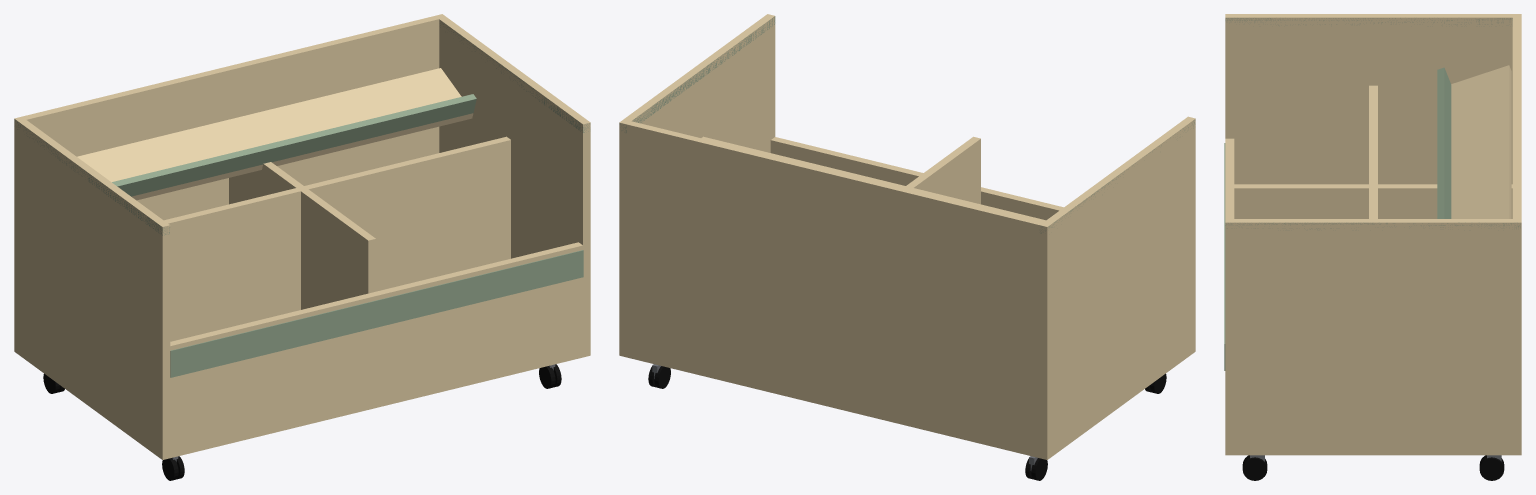
The model's file is 095_picture_book_browser_bin.glb.
3 renders of one model, left to right at view 1: azimuth 30°, elevation 25°; view 2: azimuth 150°, elevation 25°; view 3: azimuth 270°, elevation 25°, orthographic.
Visible parts, largest first — view 1: 016_carcass_side_l, 019_front_wall, 021_centre_divider_long, 020_back_wall, 017_carcass_side_r, 025_tilted_face_out_shelf, 027_bin_front_graphic_band, 022_cross_divider, 026_tilted_shelf_lip, 018_carcass_bottom, 023_side_top_round_over; view 2: 020_back_wall, 016_carcass_side_l, 017_carcass_side_r, 019_front_wall, 018_carcass_bottom, 022_cross_divider, 024_side_top_round_over, 021_centre_divider_long; view 3: 017_carcass_side_r, 016_carcass_side_l, 025_tilted_face_out_shelf, 022_cross_divider, 026_tilted_shelf_lip, 020_back_wall, 021_centre_divider_long, 019_front_wall, 009_caster_wheel_r, 013_caster_wheel_r, 027_bin_front_graphic_band.
Boxes of the visible parts, left/top/right/bottom form: 016_carcass_side_l: left=14, top=116, right=170, bottom=459; 019_front_wall: left=170, top=242, right=582, bottom=457; 021_centre_divider_long: left=164, top=136, right=510, bottom=341; 020_back_wall: left=22, top=16, right=439, bottom=220; 017_carcass_side_r: left=435, top=14, right=590, bottom=357; 025_tilted_face_out_shelf: left=77, top=68, right=473, bottom=200; 027_bin_front_graphic_band: left=170, top=250, right=583, bottom=377; 022_cross_divider: left=229, top=162, right=375, bottom=309; 026_tilted_shelf_lip: left=112, top=94, right=476, bottom=196; 018_carcass_bottom: left=170, top=354, right=582, bottom=457; 023_side_top_round_over: left=14, top=120, right=169, bottom=235; 020_back_wall: left=627, top=121, right=1043, bottom=457; 016_carcass_side_l: left=1039, top=116, right=1195, bottom=459; 017_carcass_side_r: left=619, top=14, right=775, bottom=357; 019_front_wall: left=770, top=137, right=1063, bottom=220; 018_carcass_bottom: left=627, top=352, right=1039, bottom=457; 022_cross_divider: left=904, top=136, right=980, bottom=204; 024_side_top_round_over: left=619, top=16, right=775, bottom=132; 021_centre_divider_long: left=701, top=136, right=1045, bottom=221; 017_carcass_side_r: left=1225, top=219, right=1521, bottom=455; 016_carcass_side_l: left=1225, top=14, right=1521, bottom=184; 025_tilted_face_out_shelf: left=1451, top=65, right=1511, bottom=218; 022_cross_divider: left=1234, top=184, right=1512, bottom=218; 026_tilted_shelf_lip: left=1437, top=67, right=1451, bottom=218; 020_back_wall: left=1512, top=17, right=1521, bottom=218; 021_centre_divider_long: left=1369, top=85, right=1377, bottom=218; 019_front_wall: left=1225, top=138, right=1234, bottom=218; 009_caster_wheel_r: left=1479, top=457, right=1504, bottom=480; 013_caster_wheel_r: left=1242, top=457, right=1267, bottom=480; 027_bin_front_graphic_band: left=1224, top=143, right=1225, bottom=370.
Bounding box in the file's own units: 1 × 0.6 × 0.602.
